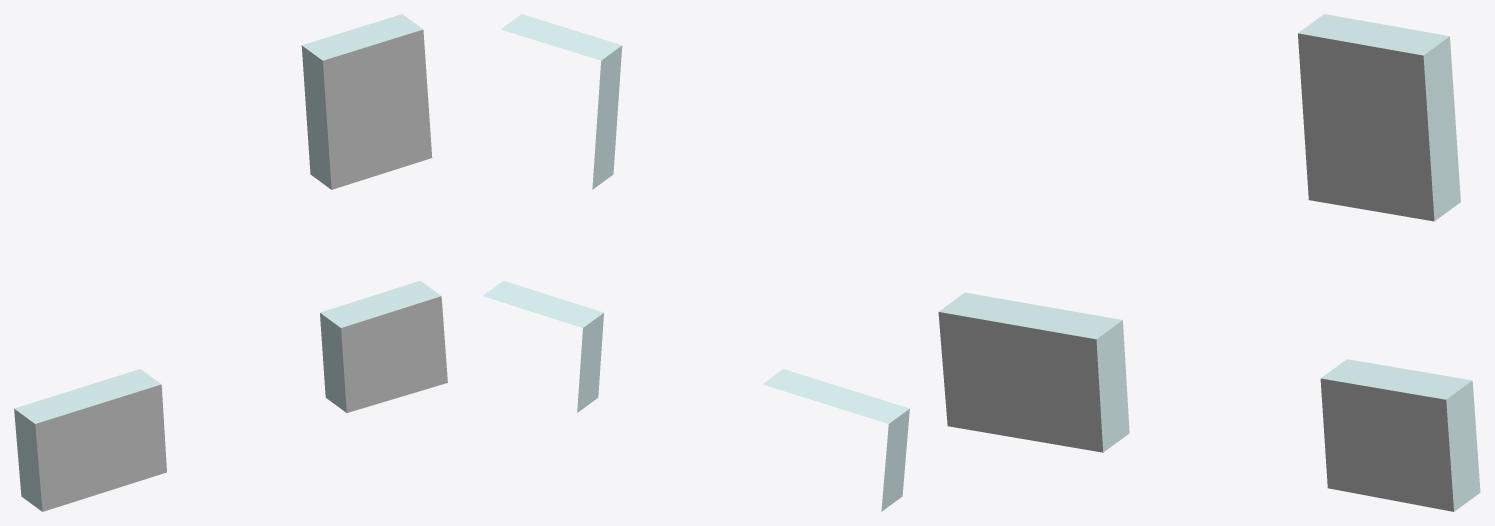
3 views of the same model, side by side, from view 1: azimuth 30°, elevation 25°; view 2: azimuth 150°, elevation 25°; view 3: azimuth 330°, elevation 25° (orthographic). The views are drawn at different scales.
Visible parts, largest first — view 1: 0_2_1_0_1_1_2_0_0; view 2: 0_2_1_0_1_1_2_0_0; view 3: 0_2_1_0_1_1_2_0_0.
Part boxes in pixels (box(x1,y1,x2,y2)): 0_2_1_0_1_1_2_0_0: box(14, 14, 447, 511); 0_2_1_0_1_1_2_0_0: box(482, 14, 909, 511); 0_2_1_0_1_1_2_0_0: box(938, 14, 1480, 511).
Bounding box in the file's own units: 33.78 × 30.47 × 3.
